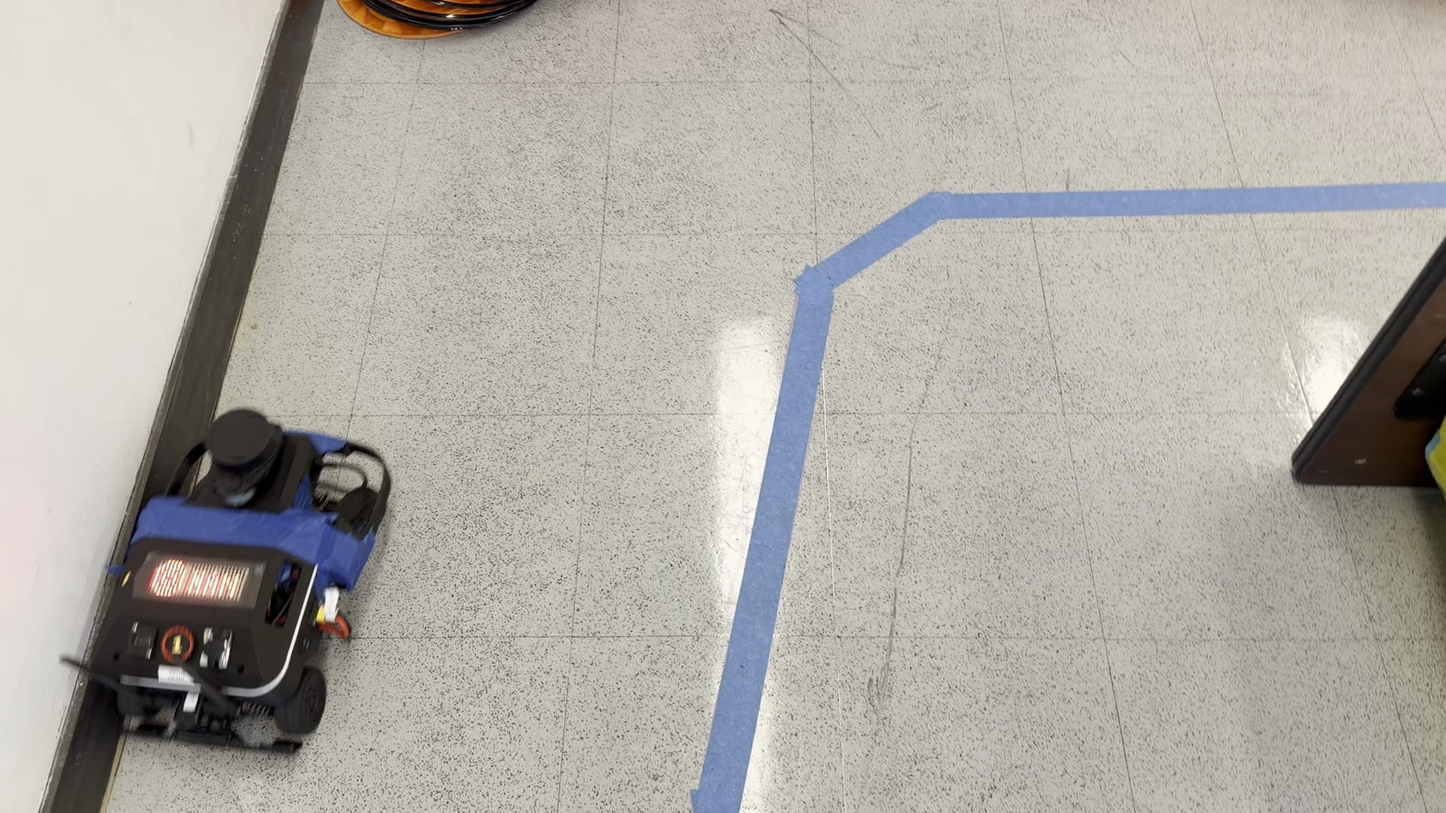racecar: (77, 416, 387, 753)
